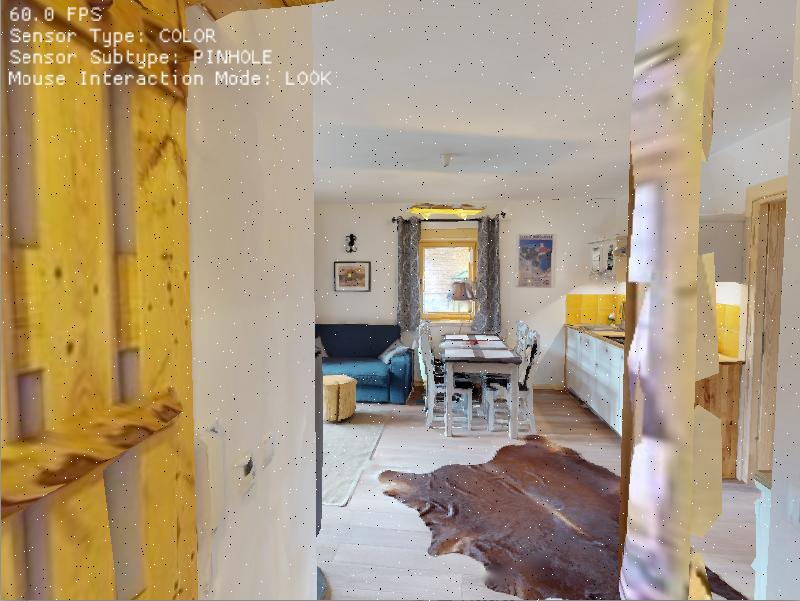chair: (482, 322, 559, 450), (411, 321, 475, 445)
door-frame: (162, 0, 701, 601)
sofa: (296, 321, 424, 422)
table: (431, 326, 535, 440)
